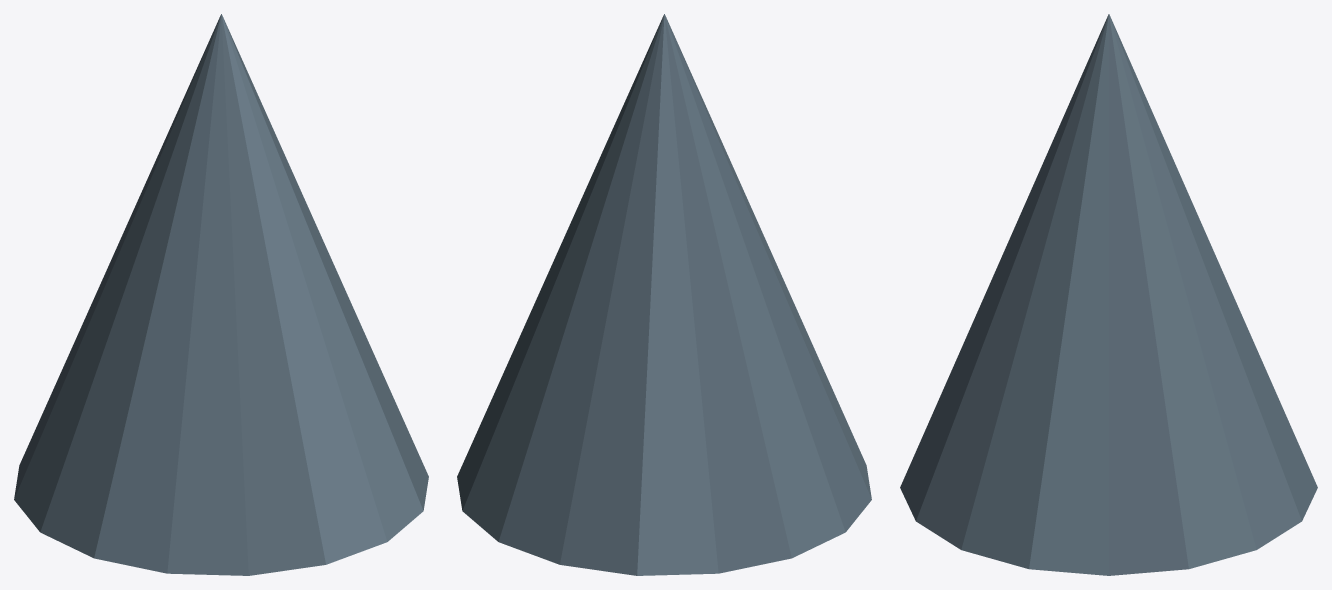
3 renders of one model, left to right at view 1: azimuth 30°, elevation 25°; view 2: azimuth 150°, elevation 25°; view 3: azimuth 270°, elevation 25°, orthographic.
Visible parts, largest first — view 1: P09_Cone; view 2: P09_Cone; view 3: P09_Cone.
Part boxes in pixels (x1,y1,x2,y2): P09_Cone: (14,14,428,575); P09_Cone: (457,14,871,575); P09_Cone: (900,14,1317,575).
Size of the model in its own units: 1.2 by 1.5 by 1.2.
1 material, 1 textured.
